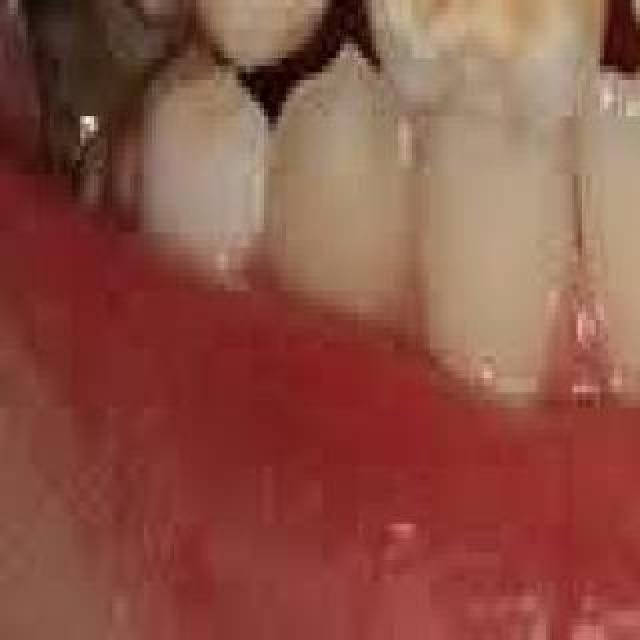cavities: (348, 0, 624, 106)
maligned: (338, 0, 616, 142), (556, 40, 640, 404), (628, 0, 640, 136)
